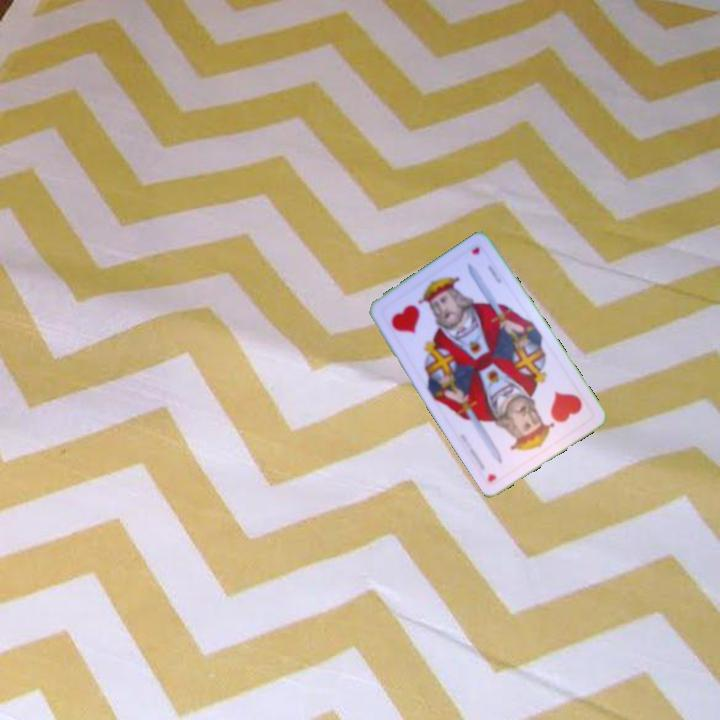h_k.png: (375, 275, 461, 358), (511, 369, 596, 452)
